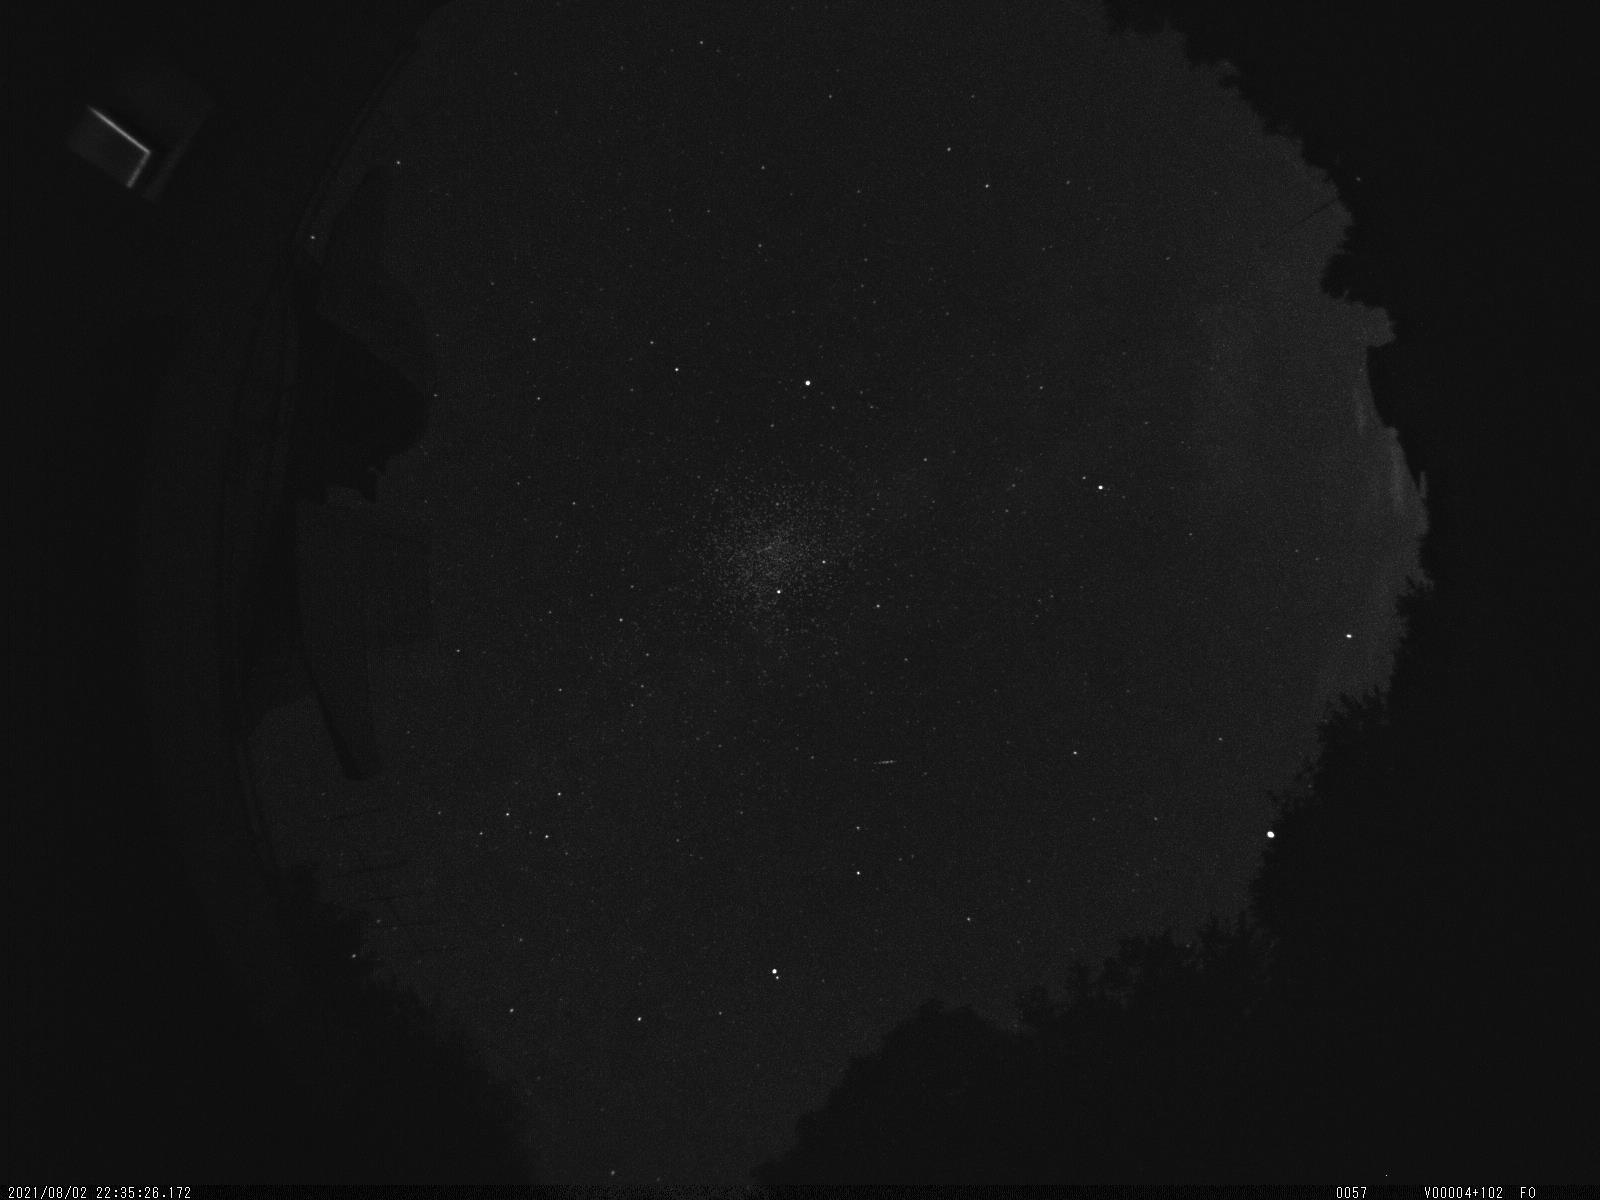Meteor: (863, 753, 908, 776)
